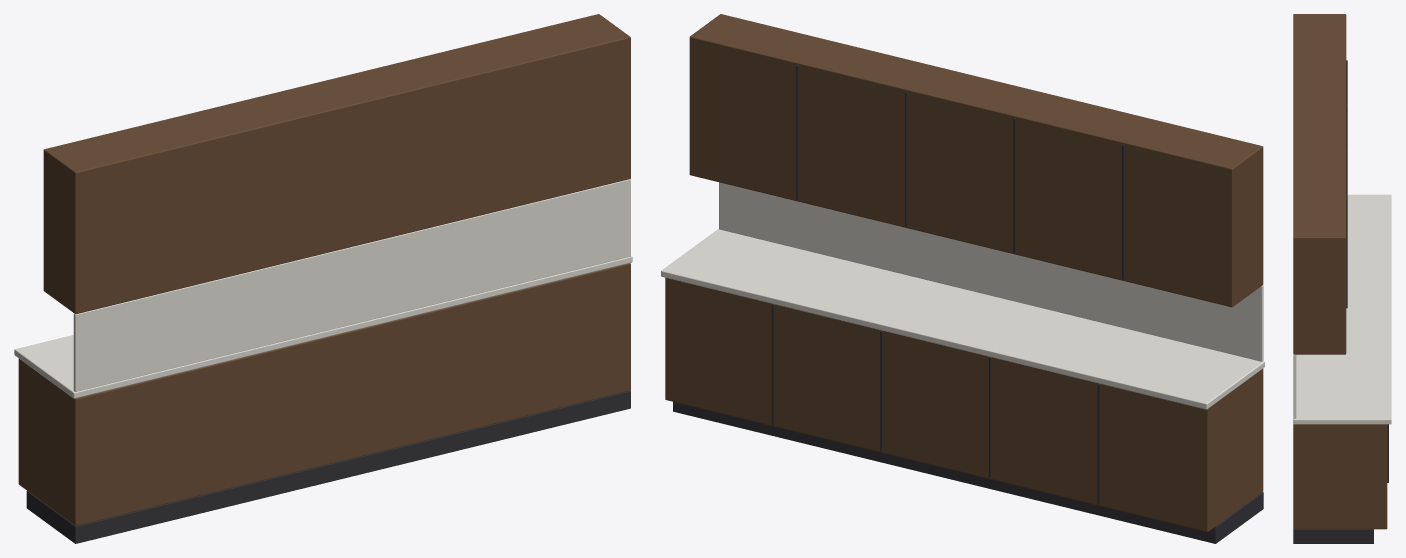
The model's file is kitchen-run.glb.
3 renders of one model, left to right at view 1: azimuth 30°, elevation 25°; view 2: azimuth 150°, elevation 25°; view 3: azimuth 270°, elevation 25°, orthographic. The views are drawn at different scales.
Parts seen in each view (by area): view 1: run_wall, run_base, run_splash, run_plinth, run_worktop; view 2: run_wall, run_base, run_worktop, run_splash, run_plinth; view 3: run_wall, run_worktop, run_base, run_plinth, run_splash, run_gap_w4.
Part boxes in pixels (bbox=[...]): run_wall: bbox=[43, 14, 630, 314]; run_base: bbox=[18, 263, 630, 525]; run_splash: bbox=[73, 179, 630, 391]; run_plinth: bbox=[26, 390, 630, 543]; run_worktop: bbox=[14, 256, 632, 398]; run_wall: bbox=[689, 14, 1263, 307]; run_base: bbox=[665, 277, 1263, 531]; run_worktop: bbox=[661, 229, 1264, 409]; run_splash: bbox=[719, 182, 1263, 361]; run_plinth: bbox=[673, 402, 1263, 543]; run_wall: bbox=[1293, 14, 1346, 354]; run_worktop: bbox=[1293, 194, 1391, 424]; run_base: bbox=[1293, 424, 1387, 529]; run_plinth: bbox=[1293, 529, 1373, 543]; run_splash: bbox=[1293, 354, 1296, 418]; run_gap_w4: bbox=[1346, 194, 1347, 308].
Size of the model in its own units: 3.62 by 2.3 by 0.6701.
